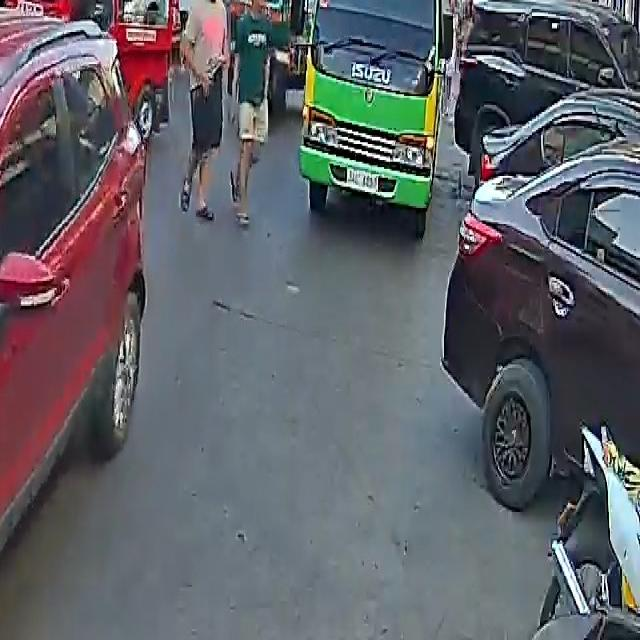car: (0, 0, 154, 640), (442, 77, 640, 524), (455, 0, 640, 172)
